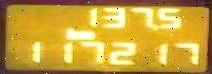-: (150, 23, 159, 30)
1: (27, 40, 41, 62), (153, 43, 167, 64), (61, 41, 74, 63), (85, 7, 98, 27)
2: (108, 41, 136, 65)
3: (99, 6, 126, 27)
5: (156, 7, 181, 28)
7: (75, 41, 105, 64), (172, 42, 199, 65), (128, 7, 152, 27)
X: (62, 27, 95, 40)
